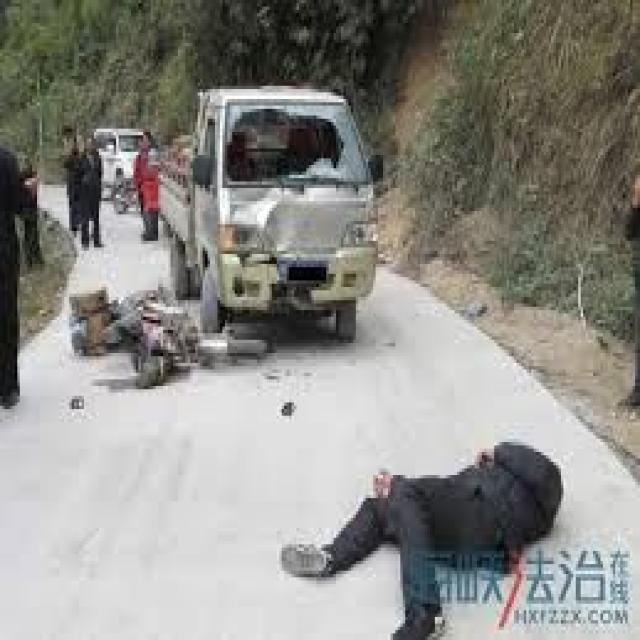Fall: (276, 445, 563, 638)
